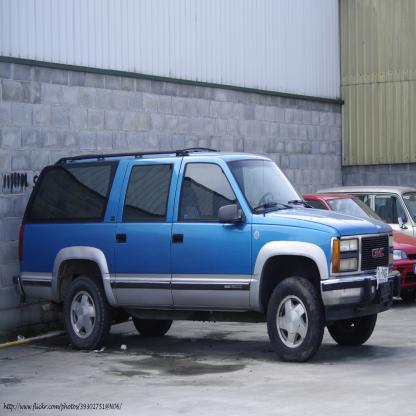Car: (12, 147, 401, 363), (301, 195, 416, 300), (316, 186, 415, 238)
